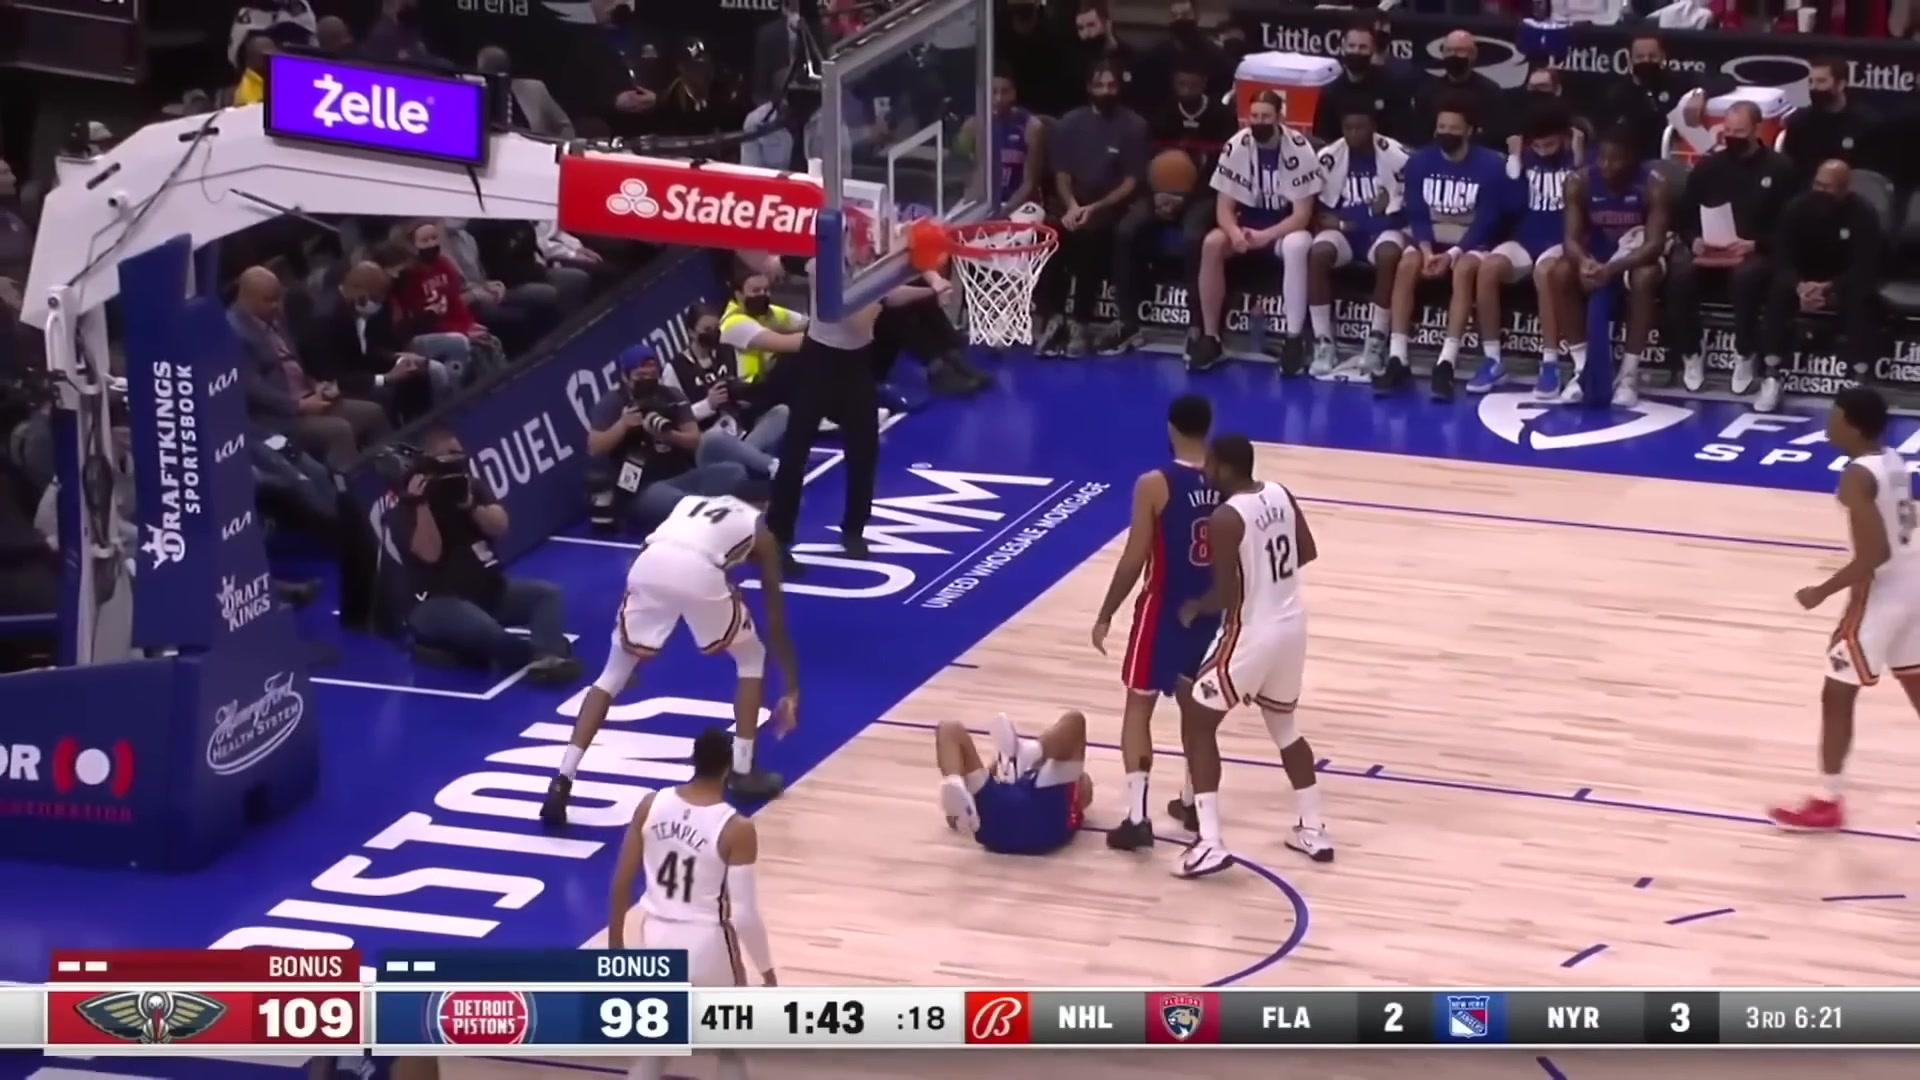foul: (914, 641, 1232, 897)
